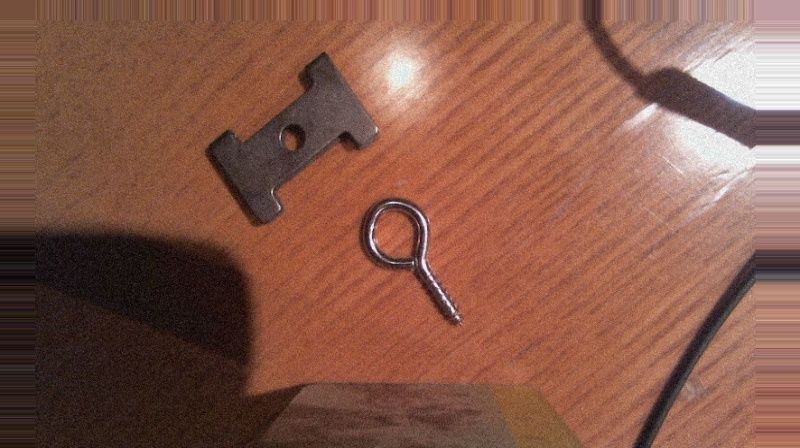O001: (359, 197, 468, 333)
O002: (201, 49, 384, 225)
